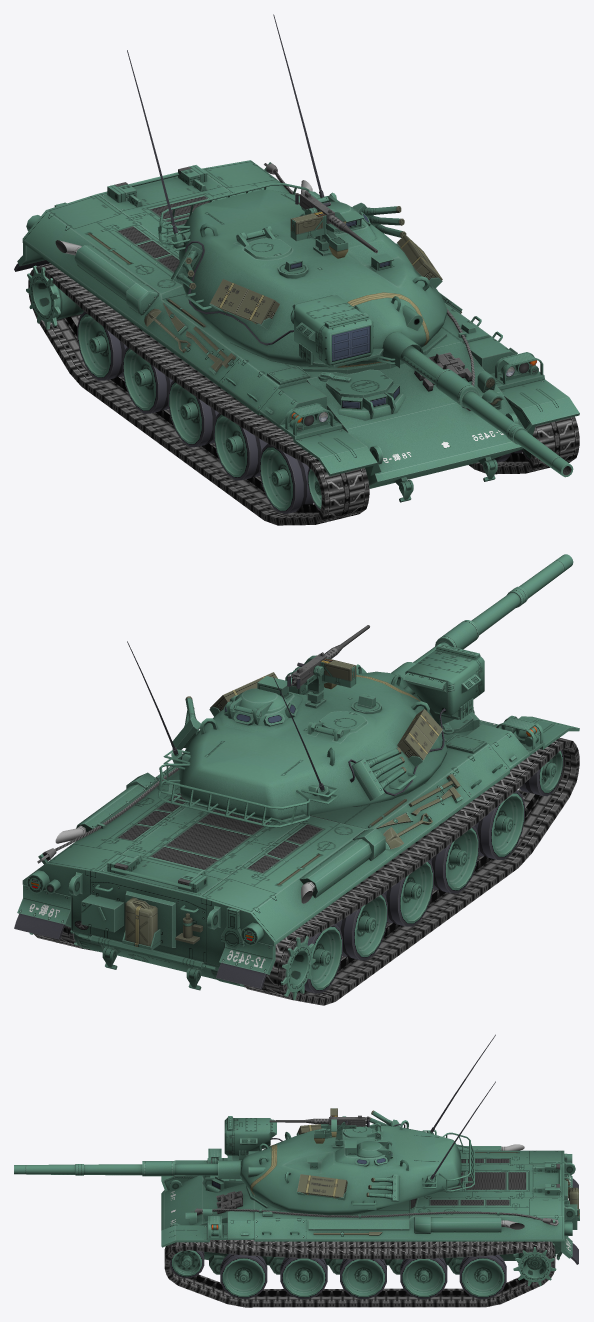
The model's file is type-74.obj.
The picture shows the model from 3 angles, top to bottom: view 1: azimuth 30°, elevation 25°; view 2: azimuth 150°, elevation 25°; view 3: azimuth 270°, elevation 25°; orthographic projection. The views are drawn at different scales.
Bounding box in the file's own units: 406 × 479 × 1177.
9 materials, 9 textured.
